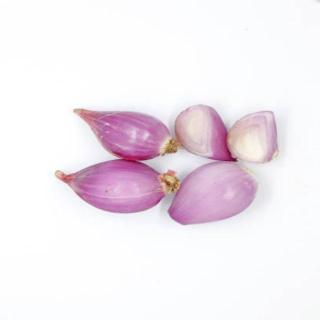Bawang Merah: (51, 158, 181, 218), (165, 160, 261, 228), (70, 104, 182, 162)
